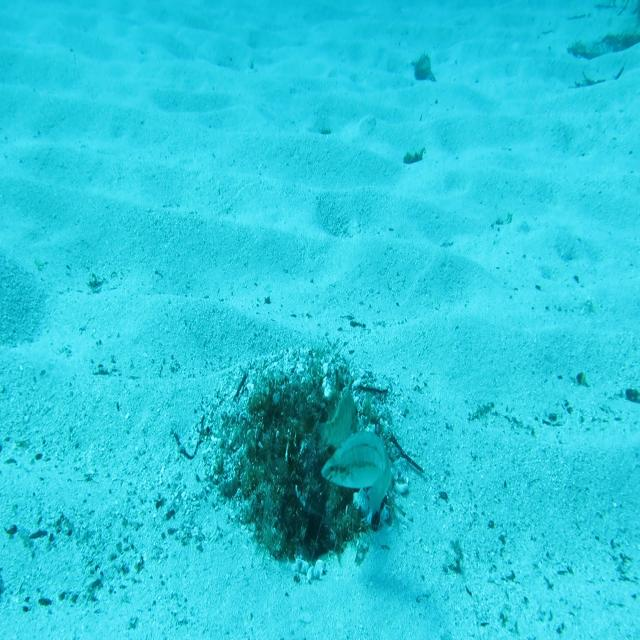MAN: (317, 375, 359, 453)
core_nest: (277, 398, 322, 442)
female: (318, 425, 394, 519)
nest: (194, 332, 414, 594)
vegetation: (569, 24, 640, 63), (410, 50, 439, 81), (402, 149, 426, 168)
